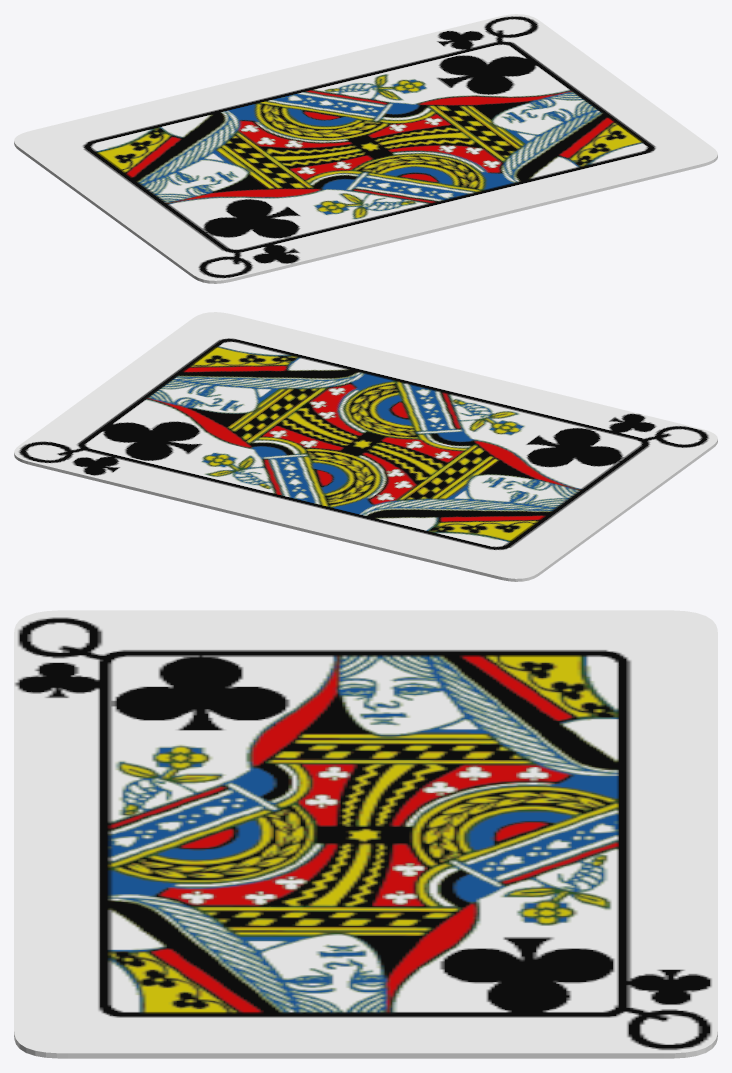
The model's file is queen_of_clubs.gltf.
3 views of the same model, one above another, from view 1: azimuth 30°, elevation 25°; view 2: azimuth 150°, elevation 25°; view 3: azimuth 270°, elevation 25° (orthographic). The views are drawn at different scales.
Parts seen in each view (by area): view 1: Plane; view 2: Plane; view 3: Plane.
Boxes of the visible parts, bbox=[...] form: Plane: bbox=[14, 14, 717, 283]; Plane: bbox=[14, 312, 717, 581]; Plane: bbox=[14, 610, 717, 1058].
Size of the model in its own units: 0.09 by 0.0005 by 0.0605.
Materials: 1 (1 with a texture image).
